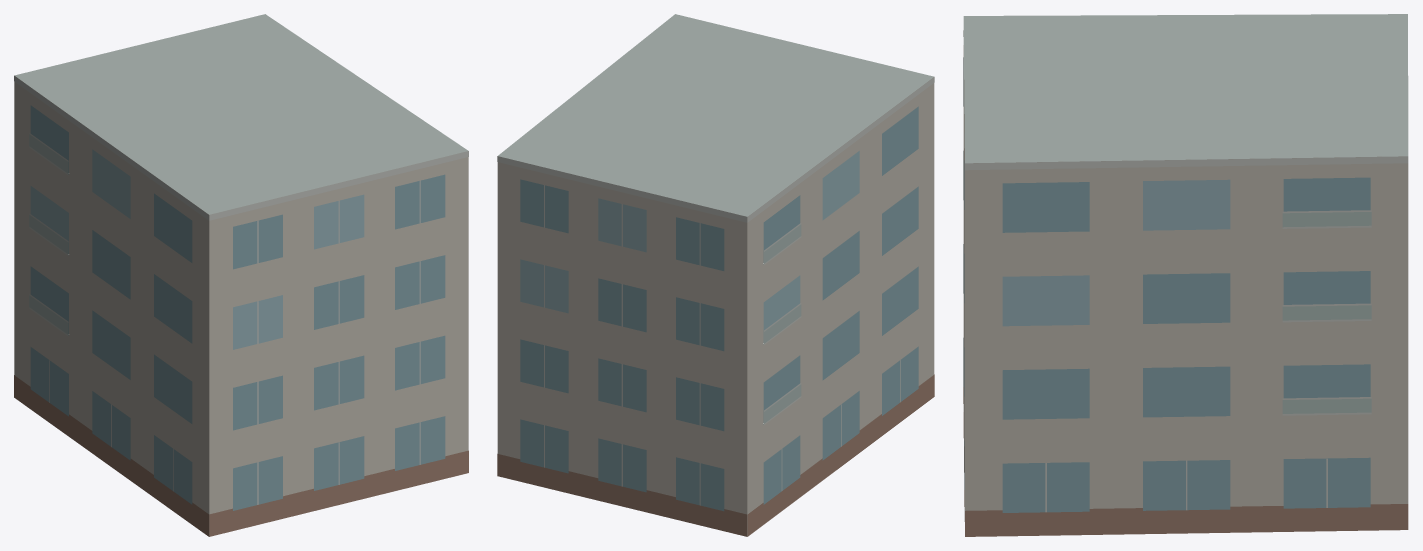
The model's file is survey-upis-32976452.glb.
3 views of the same model, side by side, from view 1: azimuth 30°, elevation 25°; view 2: azimuth 150°, elevation 25°; view 3: azimuth 270°, elevation 25° (orthographic). The views are drawn at different scales.
Visible parts, largest first — view 1: survey-upis-32976452.tmp; view 2: survey-upis-32976452.tmp; view 3: survey-upis-32976452.tmp.
Part boxes in pixels (left/top/right/bottom): survey-upis-32976452.tmp: left=14, top=14, right=468, bottom=536; survey-upis-32976452.tmp: left=497, top=14, right=934, bottom=536; survey-upis-32976452.tmp: left=963, top=14, right=1408, bottom=536.
Bounding box in the file's own units: 11.25 × 13.1 × 14.15.
